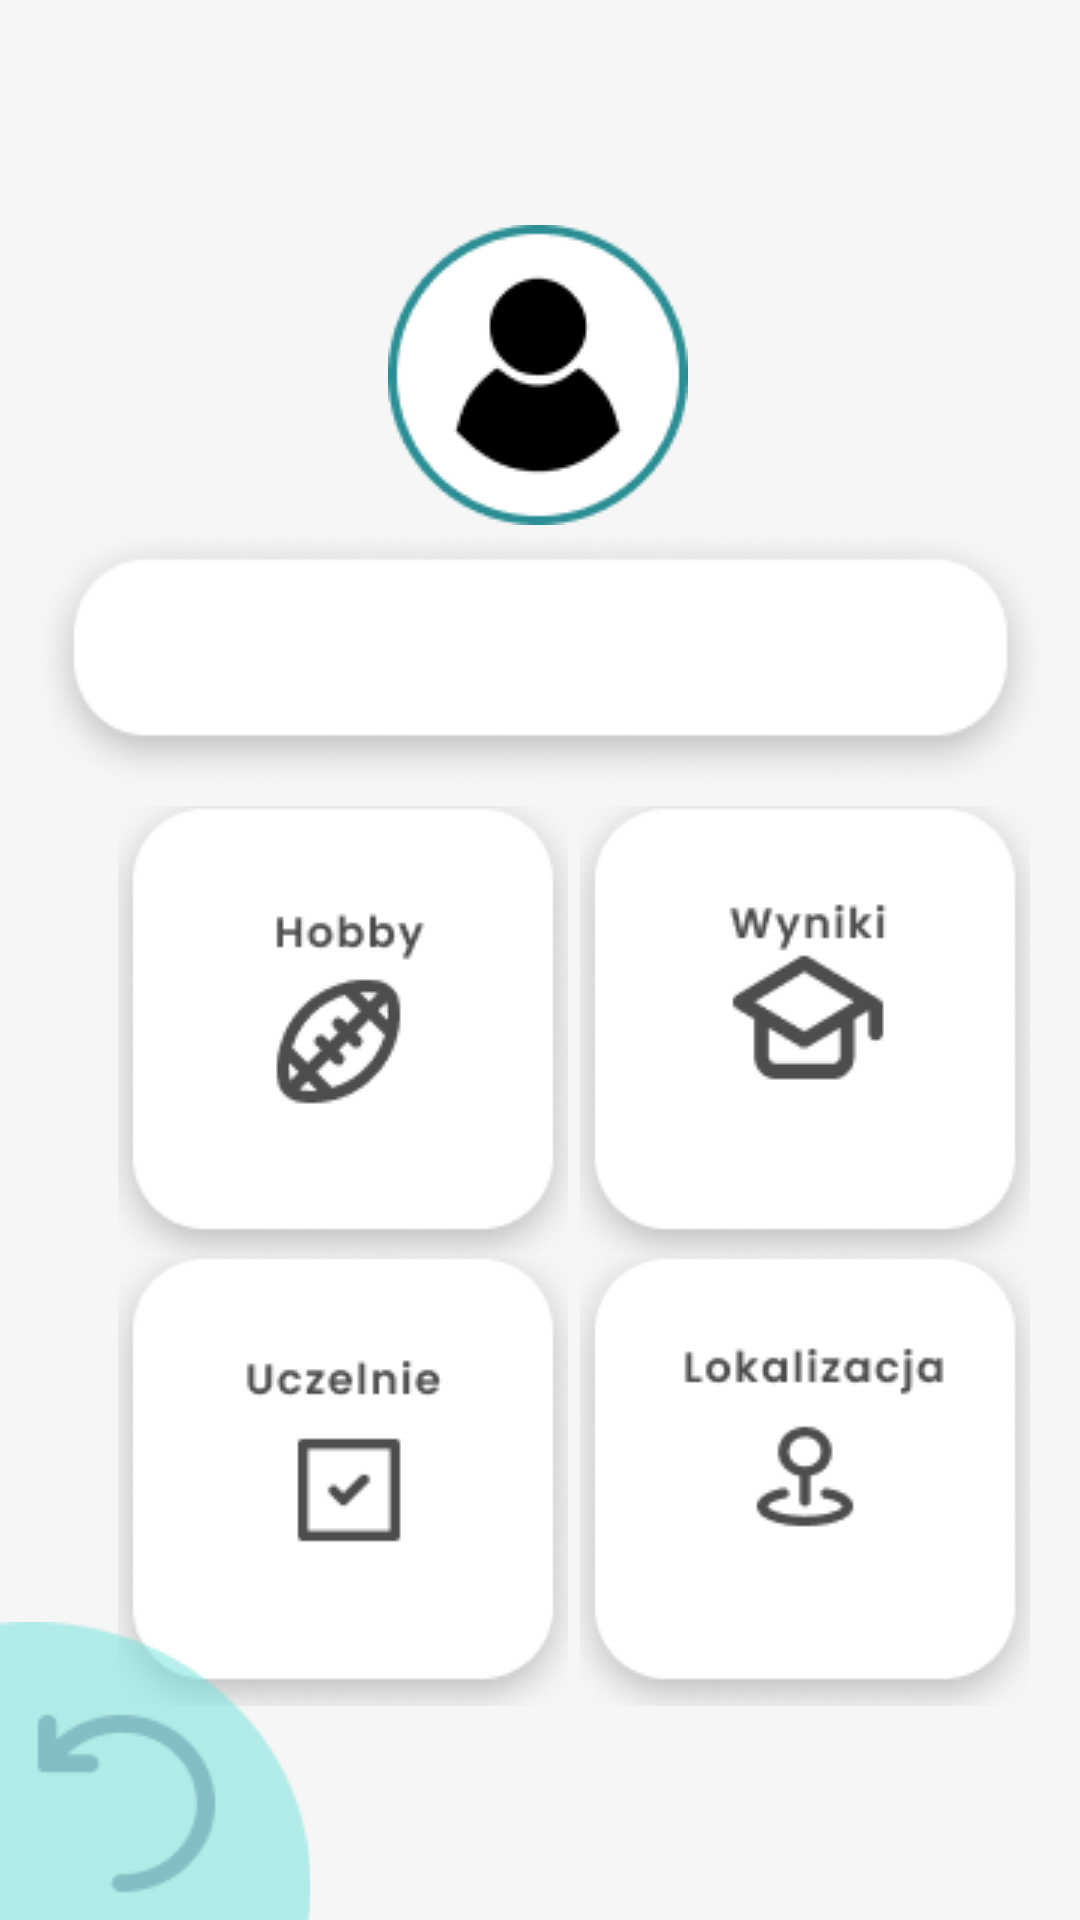

Icons on this 1080×1920 Android screen, each with its box as (x1, y1, x2, y2):
useravatar: (388, 225, 688, 525)
